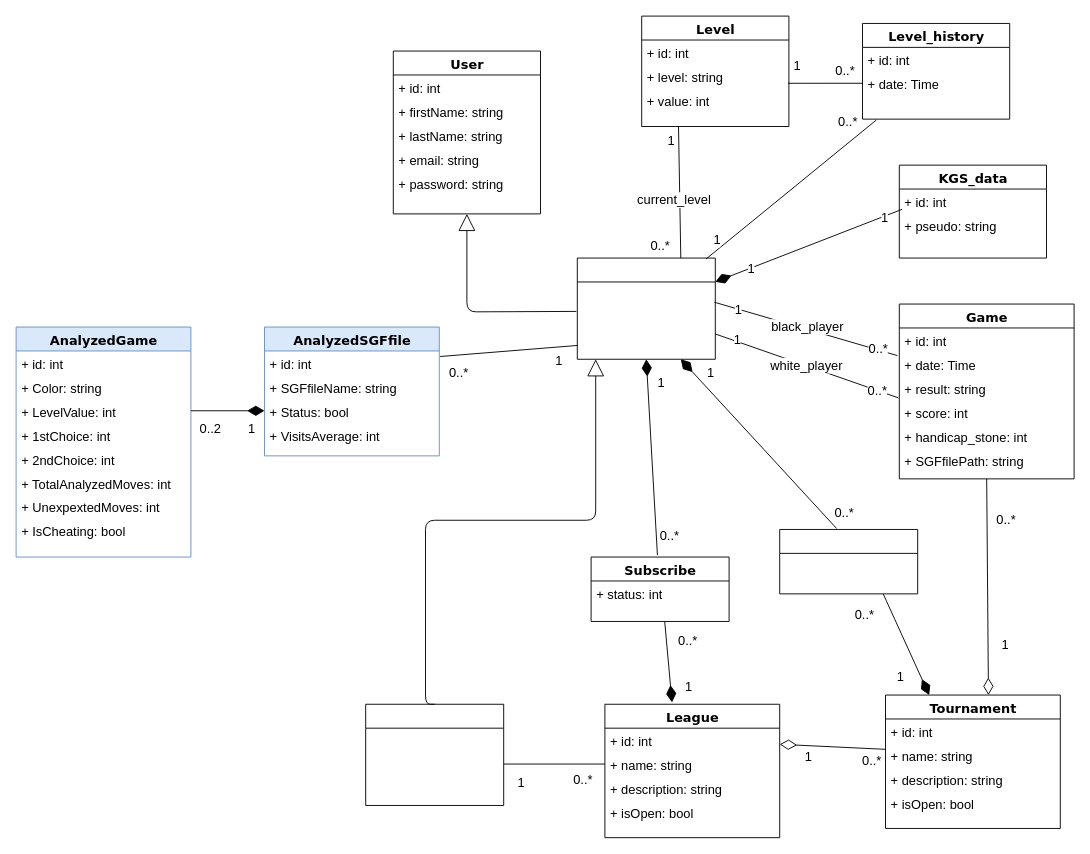
Image size: 1090x854. Some labels were removed from this diagram. The centre of each missing label's shape, as x and y in pixels:
"Manager" belongs at [434,754].
"Participate" belongs at [848,561].
"Player" belongs at [645,308].
